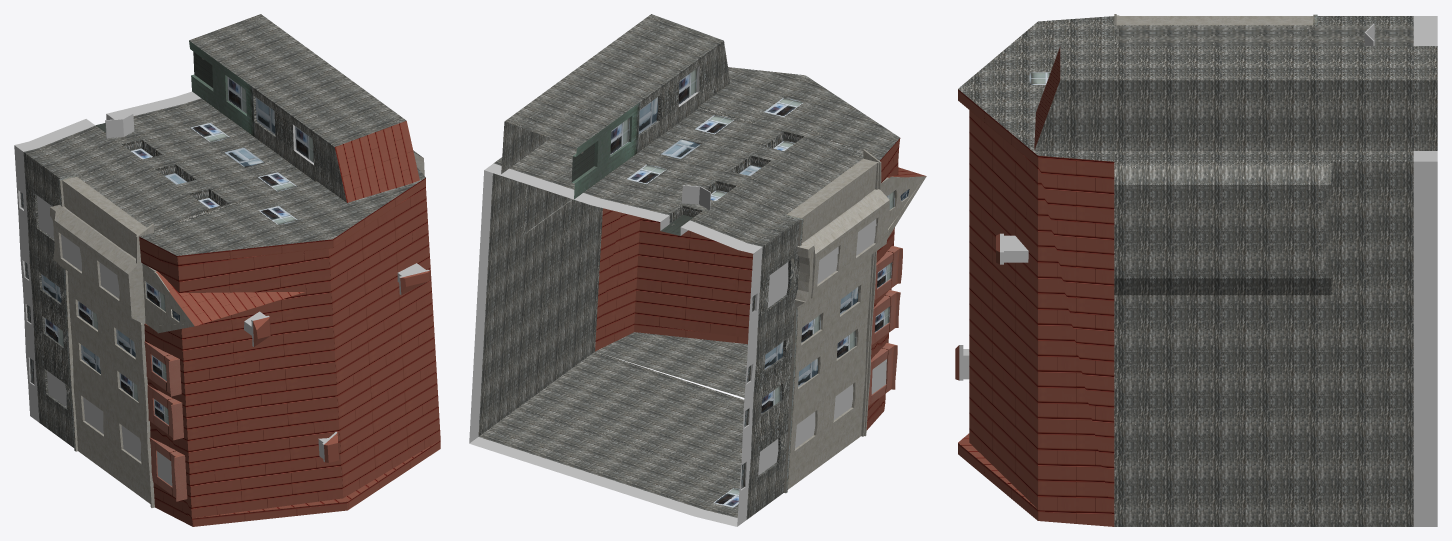
The model's file is Uus_20a-origo.obj.
3 renders of one model, left to right at view 1: azimuth 30°, elevation 25°; view 2: azimuth 150°, elevation 25°; view 3: azimuth 270°, elevation 25°, orthographic. The views are drawn at different scales.
Parts seen in each view (by area): view 1: Object05; view 2: Object05; view 3: Object05.
Boxes of the visible parts, bbox=[...] form: Object05: bbox=[14, 14, 440, 526]; Object05: bbox=[469, 14, 926, 526]; Object05: bbox=[955, 14, 1437, 526].
Bounding box in the file's own units: 17.62 × 19.5 × 19.04.
